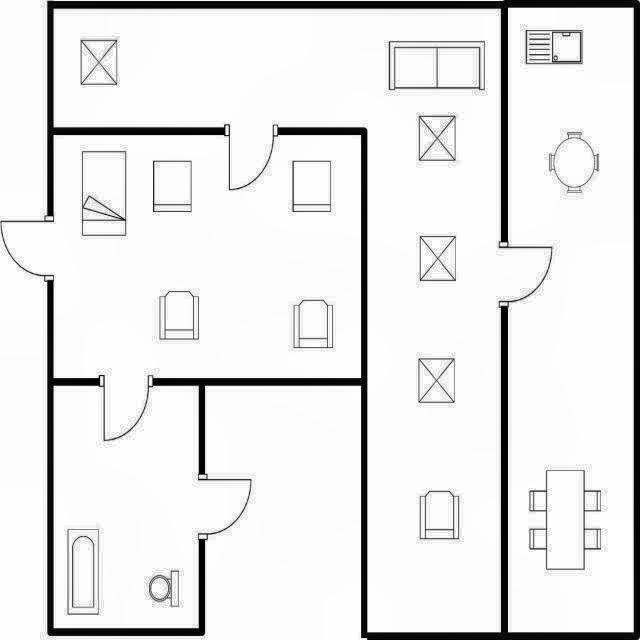room: (54, 9, 501, 632), (509, 9, 633, 632), (54, 135, 361, 378), (53, 387, 199, 628)
